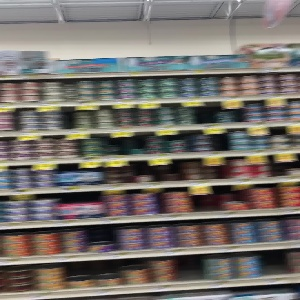void: (150, 157, 228, 181), (190, 183, 224, 215), (173, 253, 207, 279), (263, 248, 289, 277), (189, 101, 219, 126), (213, 127, 229, 152)
